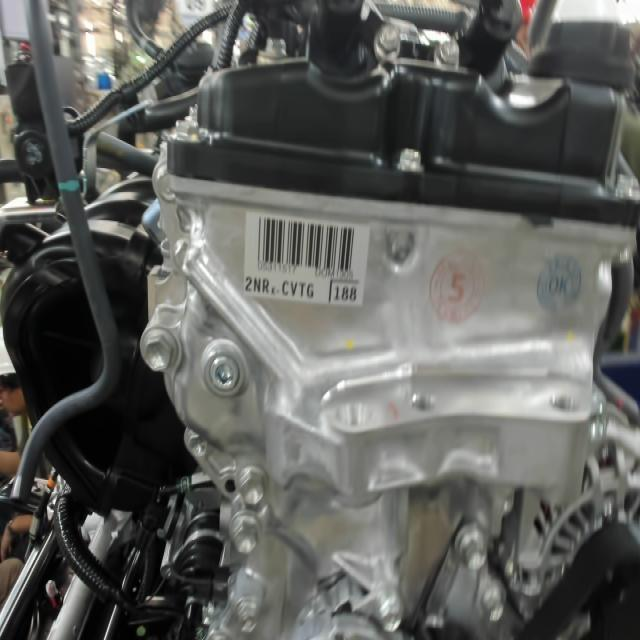Engine Assy-188: (326, 277, 365, 309)
Hose Canister-HJ: (59, 174, 85, 194)
